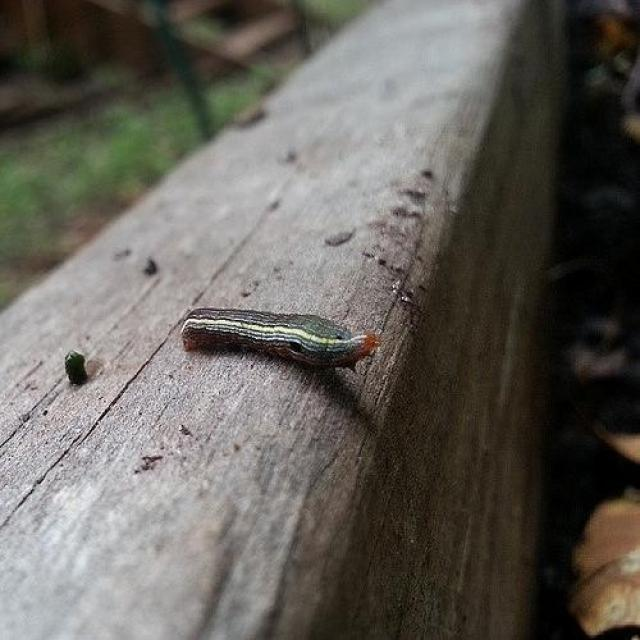army worm: (177, 304, 386, 371)
